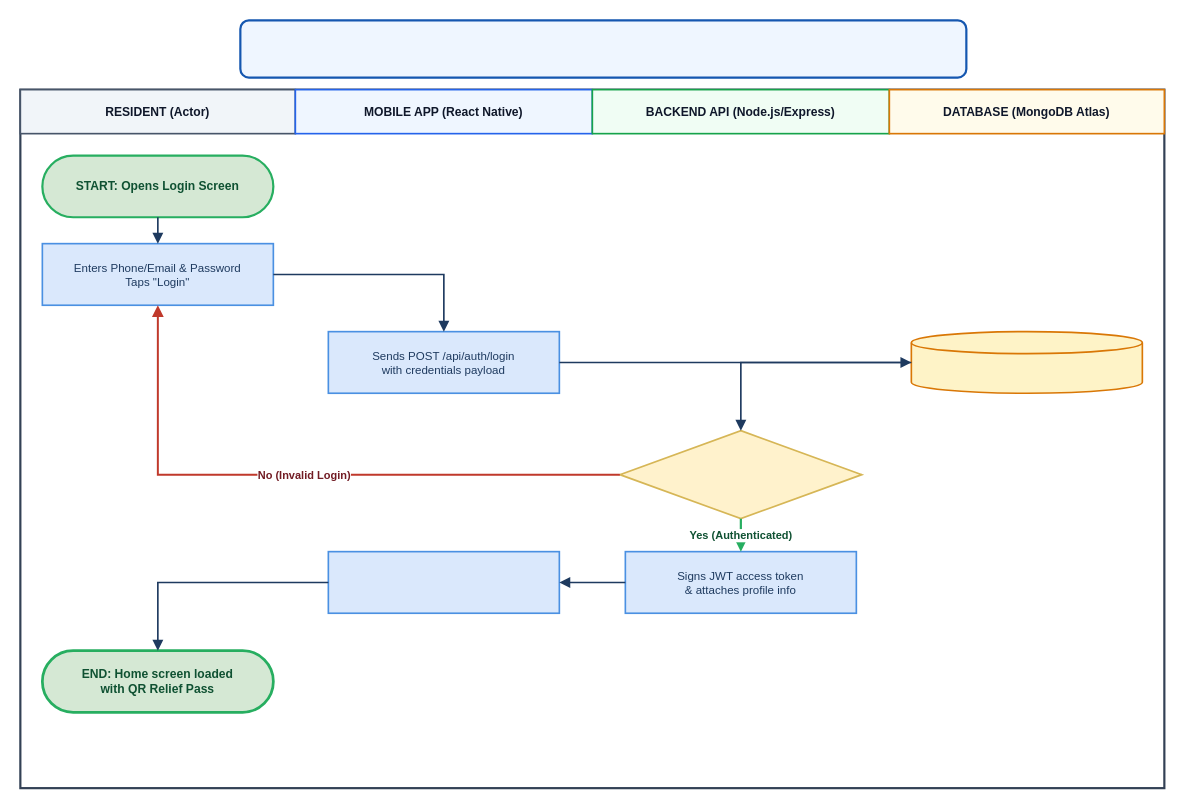
The diagram is 1184 pixels wide and 807 high, and some of its shapes have lost their labels. Each missing label, with the centre of its shape:
MongoDB: Queries User record by phone/email: (x=1026, y=362)
PF-R02: Swimlane Process Flow - Login Actor: Resident Linked Use Case: UC-R02: (x=603, y=48)
Saves auth token in AsyncStorage; Registers FCM push token: (x=443, y=582)
User exists & bcrypt password hash matches?: (x=740, y=474)
